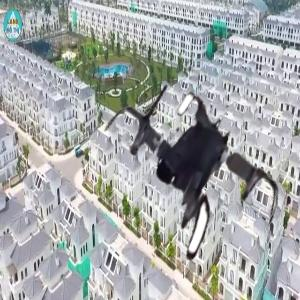drone: (83, 79, 287, 283)
